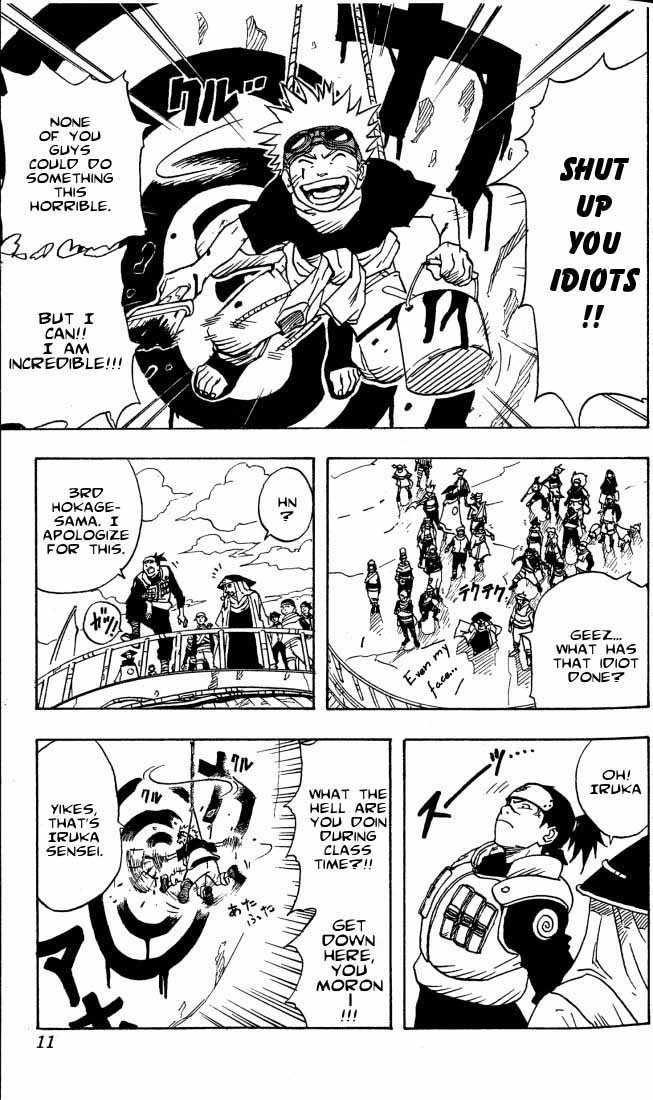bubble: (487, 52, 649, 428), (0, 59, 152, 260), (0, 244, 143, 429), (284, 739, 391, 914), (520, 571, 649, 709), (37, 739, 126, 912), (35, 458, 143, 593), (285, 905, 391, 1029), (575, 738, 649, 845), (259, 467, 314, 542), (83, 601, 123, 645)
